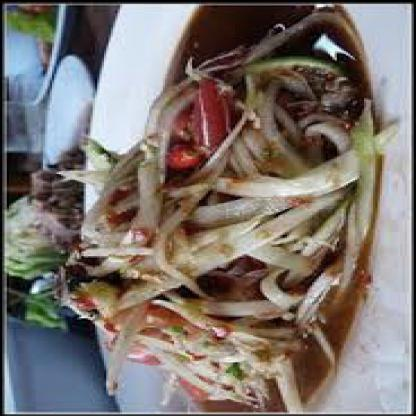Papaya Salad: (68, 1, 416, 415)
